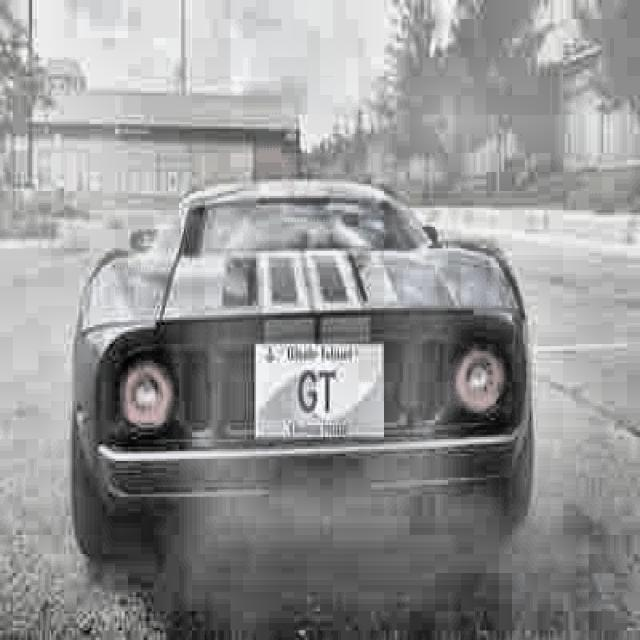license_plate: (256, 343, 382, 440)
